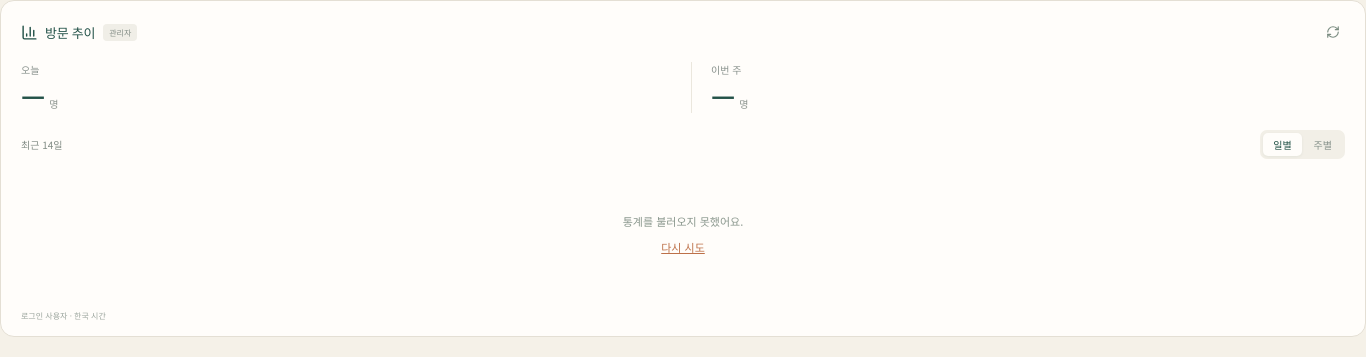
shows an error instead of invented zero totals and allows retry
This screenshot has width=1366, height=357.
Expected: the message shows "불러오지 못했어요", [623,212,743,228]
Click the button "다시 시도" at (683, 246), box [655,238,711,256]
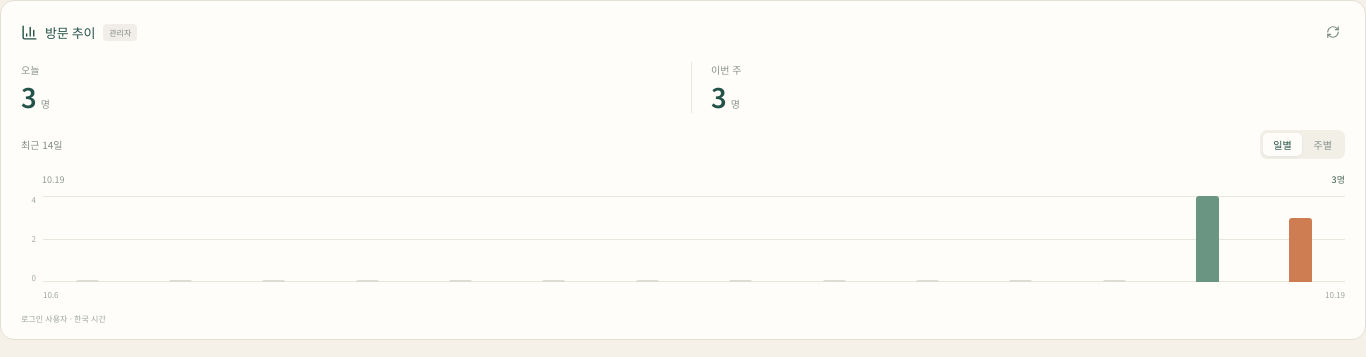
Expected: the element named "일별 방문자 수" is shown, [43,196,1345,282]
